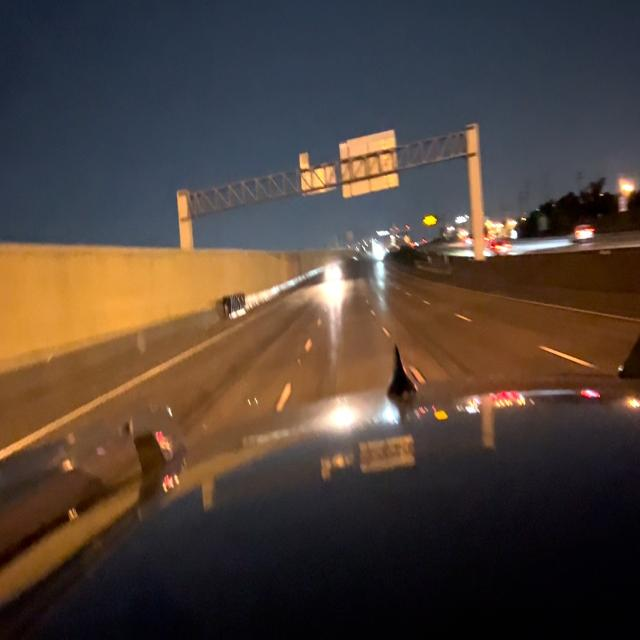back-of-sign: (339, 126, 399, 200), (299, 147, 336, 199)
